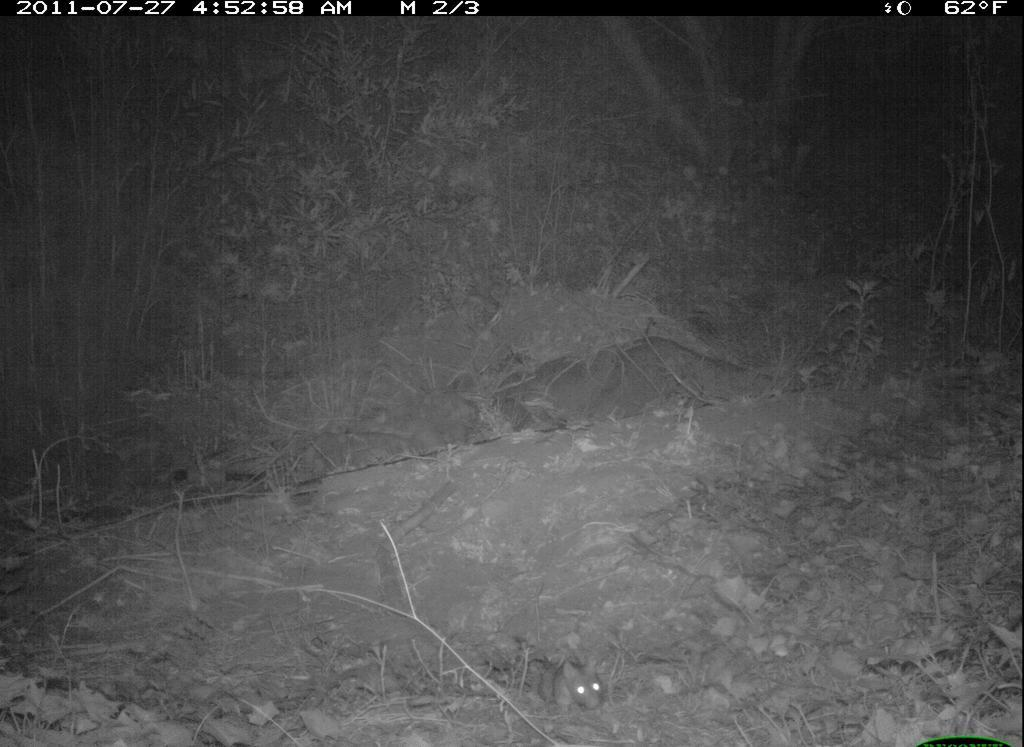rodent: (528, 649, 615, 717)
